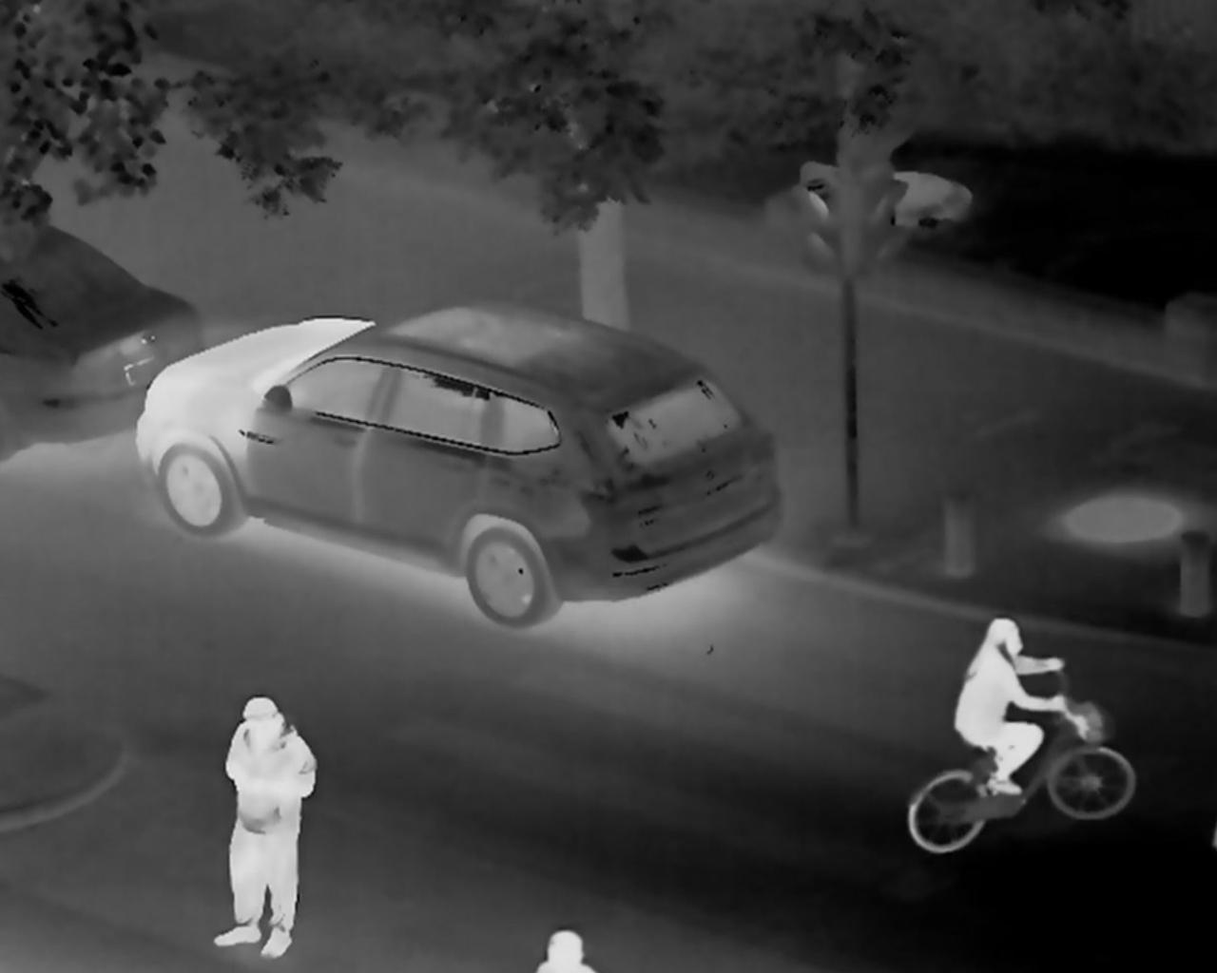person: (212, 687, 314, 959), (953, 604, 1074, 798)
